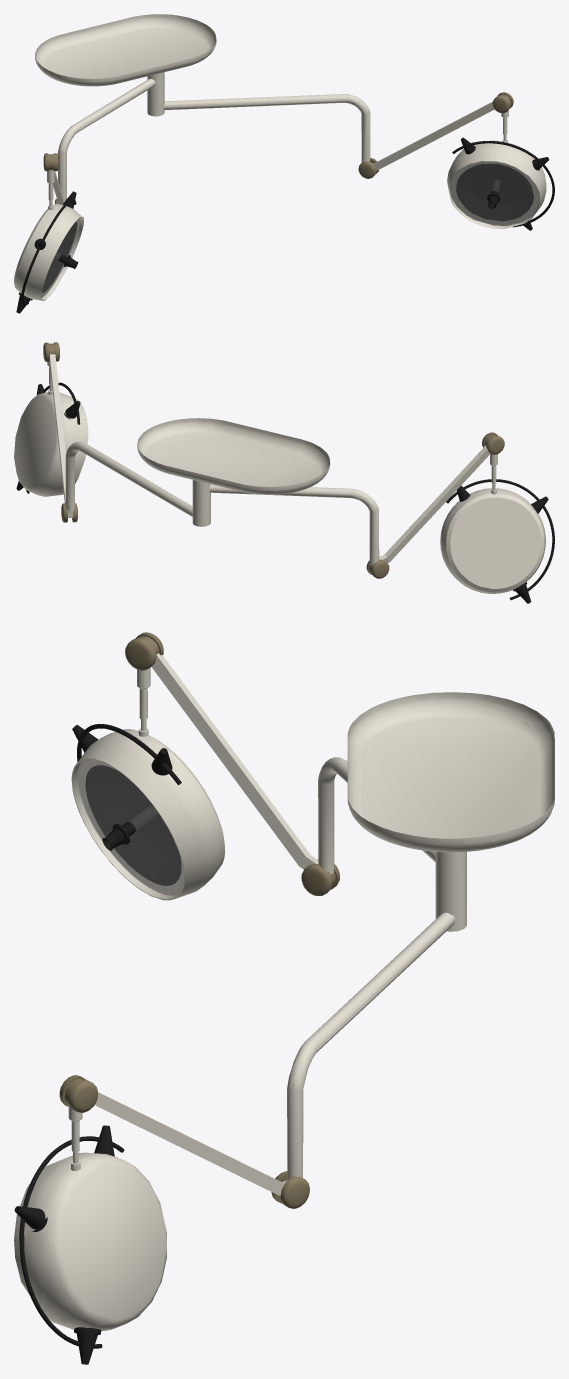
Rendered from Lab_Light_arm02.fbx.
3 views of the same model, one above another, from view 1: azimuth 30°, elevation 25°; view 2: azimuth 150°, elevation 25°; view 3: azimuth 270°, elevation 25° (orthographic). The views are drawn at different scales.
Visible parts, largest first — view 1: aparato (×2), lampara11, brazo (×2), lampara12, lampara05, lamp_cromo01, brazo01, lampara03, lamp_cromo, lampara08, lampara04; view 2: aparato (×2), lampara05, lampara12, brazo (×2), brazo01, brazo02, lampara04, brazo32; view 3: aparato (×2), lampara12, lampara05, brazo (×3), lampara03, lamp_cromo, brazo02, brazo01, lampara08, brazo35, lampara07, brazo32.
Boxes of the visible parts, <box> form: aparato (×2): <box>35,14,216,116</box>; lampara11: <box>452,161,537,224</box>; brazo (×2): <box>164,94,494,170</box>; lampara12: <box>447,140,546,229</box>; lampara05: <box>14,203,83,300</box>; lamp_cromo01: <box>456,164,533,221</box>; brazo01: <box>58,78,155,200</box>; lampara03: <box>41,219,80,296</box>; lamp_cromo: <box>42,222,77,292</box>; lampara08: <box>452,141,554,227</box>; lampara04: <box>21,199,76,305</box>; aparato (×2): <box>137,418,330,526</box>; lampara05: <box>440,488,545,593</box>; lampara12: <box>14,392,88,496</box>; brazo (×2): <box>49,354,192,517</box>; brazo01: <box>209,484,379,565</box>; brazo02: <box>379,445,490,562</box>; lampara04: <box>446,479,554,600</box>; brazo32: <box>366,559,389,578</box>; aparato (×2): <box>347,692,554,931</box>; lampara12: <box>14,1152,166,1331</box>; lampara05: <box>71,729,225,900</box>; brazo (×3): <box>94,912,455,1208</box>; lampara03: <box>78,760,183,893</box>; lamp_cromo: <box>85,765,181,885</box>; brazo02: <box>151,653,318,869</box>; brazo01: <box>318,757,435,874</box>; lampara08: <box>19,1136,124,1348</box>; brazo35: <box>59,1075,97,1112</box>; lampara07: <box>102,805,157,850</box>; brazo32: <box>301,859,339,895</box>.
Size of the model in its own units: 33.15 by 11.31 by 16.7.
